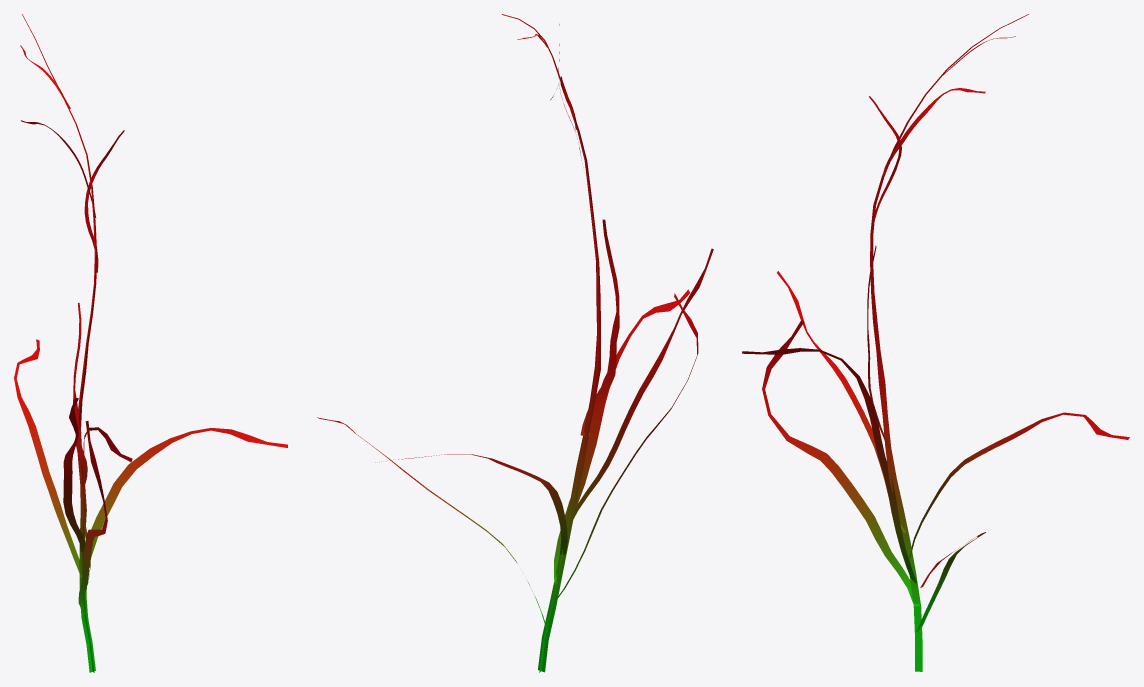
The model's file is Swamp Grass_LOD1_Var10_tefocd1r.fbx.
3 views of the same model, side by side, from view 1: azimuth 30°, elevation 25°; view 2: azimuth 150°, elevation 25°; view 3: azimuth 270°, elevation 25° (orthographic). The views are drawn at different scales.
Visible parts, largest first — view 1: merge1; view 2: merge1; view 3: merge1.
Part boxes in pixels (bbox=[...]): merge1: bbox=[14, 14, 287, 672]; merge1: bbox=[317, 14, 713, 672]; merge1: bbox=[742, 14, 1129, 671].
Size of the model in its own units: 16.18 by 34.21 by 18.53.
